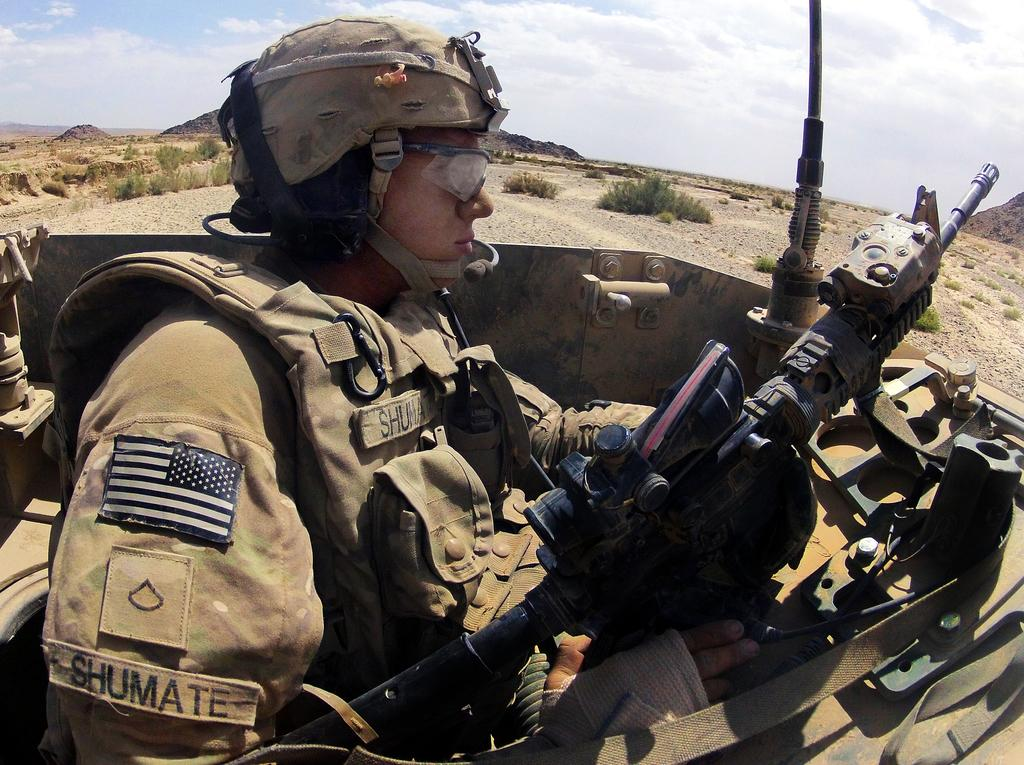Rifle: (279, 161, 1002, 764)
